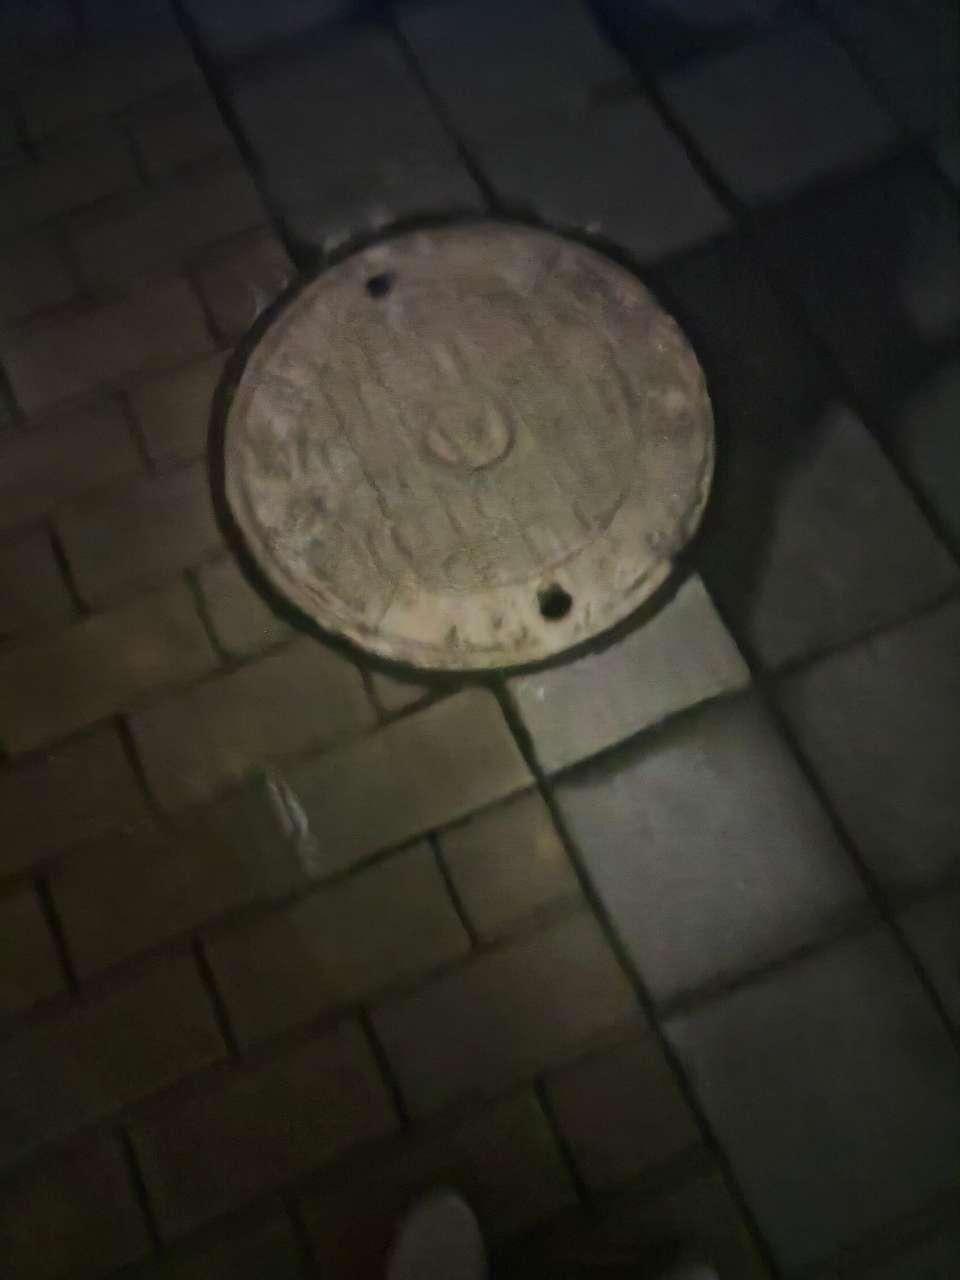wellcover: (203, 191, 741, 687)
